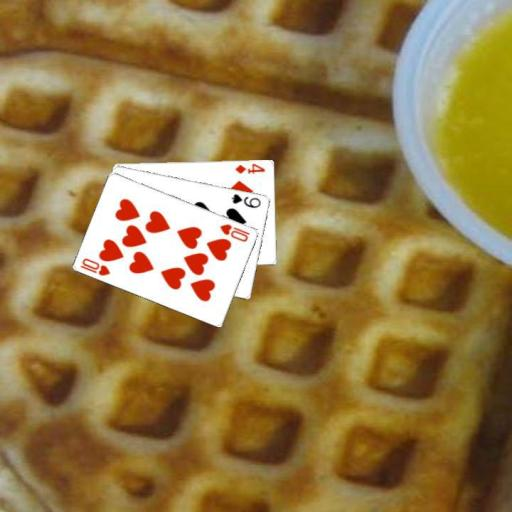10H: (217, 221, 251, 244), (78, 255, 112, 278)
4D: (233, 160, 267, 175)
9S: (229, 191, 263, 209)
